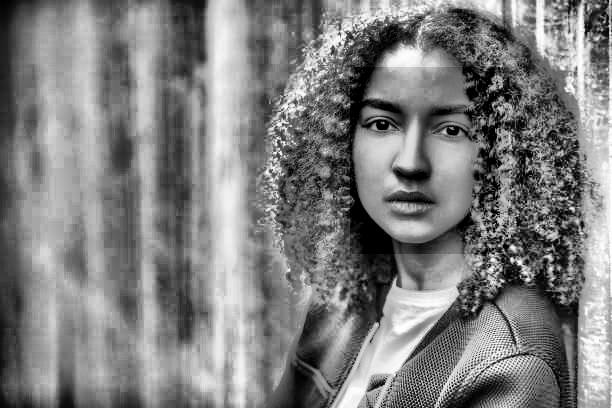sad: (350, 67, 509, 254)
